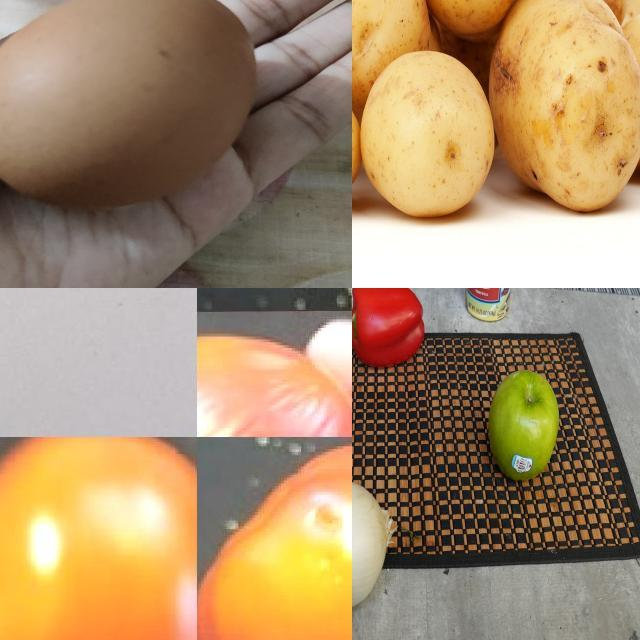bell_pepper: (353, 289, 425, 370)
egg: (1, 1, 268, 213)
onion: (353, 481, 399, 619)
potato: (494, 1, 640, 215), (364, 50, 494, 221), (353, 1, 427, 108), (537, 1, 632, 37)
tomato: (1, 438, 198, 640), (198, 438, 353, 640)
